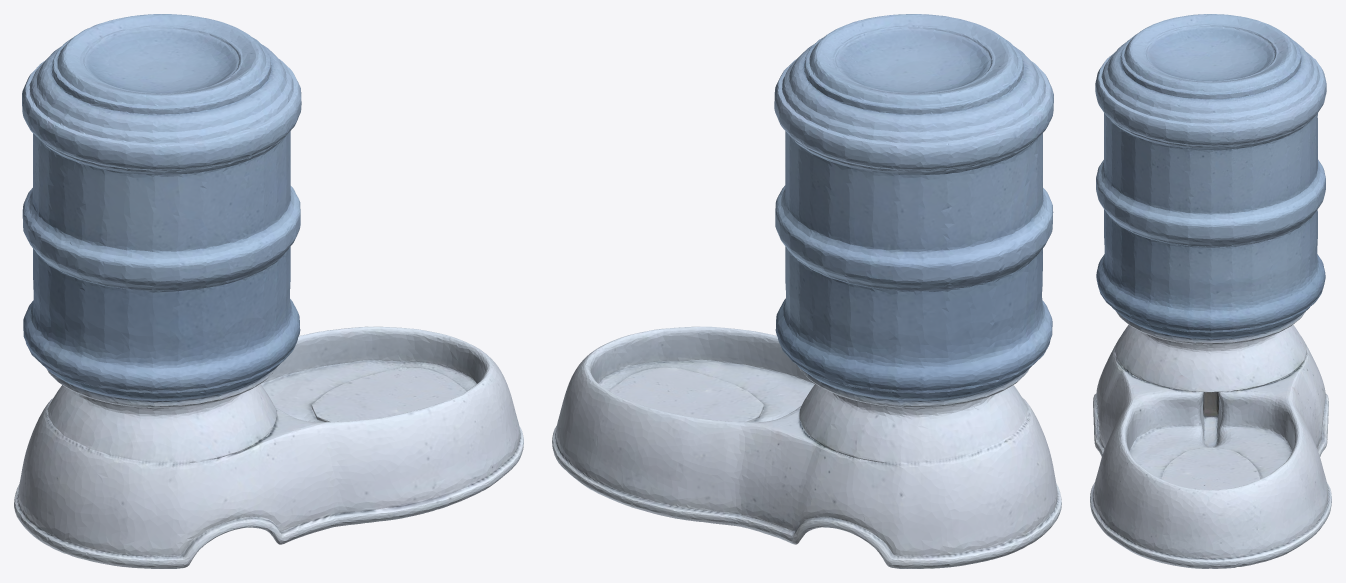
Rendered from bowl_water_8.glb.
3 views of the same model, side by side, from view 1: azimuth 30°, elevation 25°; view 2: azimuth 150°, elevation 25°; view 3: azimuth 270°, elevation 25° (orthographic). The views are drawn at different scales.
Visible parts, largest first — view 1: tripo_node_b8821b6d-4c56-4bb9-a4a9-3c2e80b484e1; view 2: tripo_node_b8821b6d-4c56-4bb9-a4a9-3c2e80b484e1; view 3: tripo_node_b8821b6d-4c56-4bb9-a4a9-3c2e80b484e1.
Boxes of the visible parts, box(x1,y1,x2,y2) form: tripo_node_b8821b6d-4c56-4bb9-a4a9-3c2e80b484e1: box(14, 14, 523, 568); tripo_node_b8821b6d-4c56-4bb9-a4a9-3c2e80b484e1: box(552, 14, 1061, 568); tripo_node_b8821b6d-4c56-4bb9-a4a9-3c2e80b484e1: box(1090, 14, 1331, 568).
Size of the model in its own units: 0.9998 by 0.9173 by 0.5281.
1 material, 1 textured.
